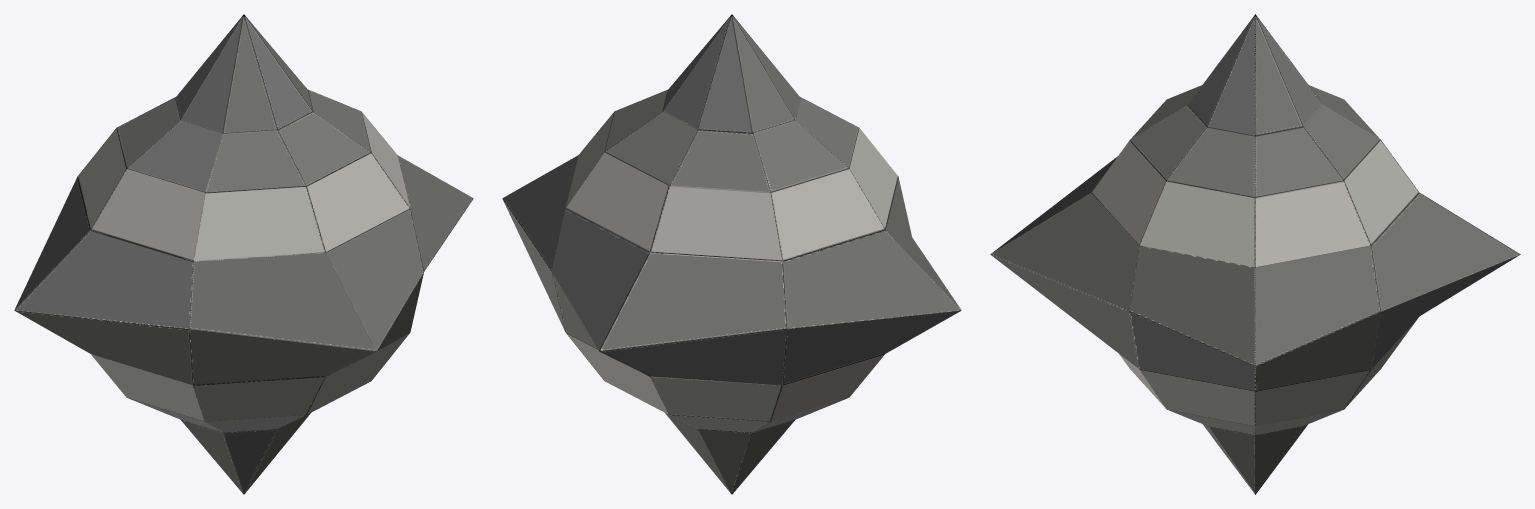
Rendered from obstacle.fbx.
The picture shows the model from 3 angles, left to right: view 1: azimuth 30°, elevation 25°; view 2: azimuth 150°, elevation 25°; view 3: azimuth 270°, elevation 25°; orthographic projection.
Visible parts, largest first — view 1: obstacle; view 2: obstacle; view 3: obstacle.
Boxes of the visible parts, x1,y1,x2,y2 form: obstacle: (14,14,473,494); obstacle: (502,14,961,494); obstacle: (990,14,1520,494).
Bounding box in the file's own units: 100 × 100 × 100.
